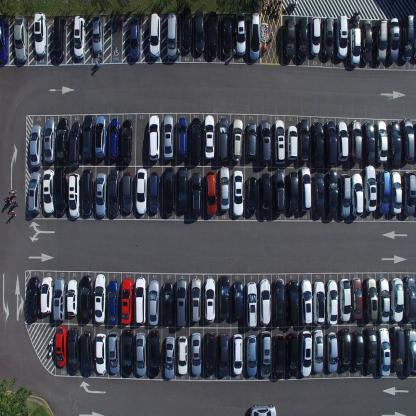car: (399, 13, 414, 62), (401, 170, 416, 217), (400, 118, 416, 162), (54, 166, 68, 215), (364, 326, 378, 375), (390, 326, 405, 371), (14, 14, 28, 62), (363, 165, 377, 212), (52, 14, 66, 61), (390, 276, 404, 323), (248, 12, 261, 62), (27, 171, 42, 214), (258, 119, 272, 165), (29, 123, 43, 169), (66, 328, 79, 377), (108, 168, 121, 217), (204, 171, 218, 216), (311, 122, 325, 167), (388, 121, 402, 166), (374, 18, 388, 63), (364, 276, 378, 321), (121, 330, 134, 378), (175, 278, 188, 326), (147, 112, 160, 160), (25, 274, 38, 322), (324, 120, 337, 168), (34, 10, 47, 58), (43, 117, 56, 165), (81, 168, 94, 216), (377, 328, 390, 376), (230, 118, 244, 162), (350, 172, 364, 216), (376, 170, 390, 214), (374, 119, 388, 163), (338, 328, 352, 372), (93, 273, 105, 324), (216, 115, 229, 162), (404, 327, 416, 377), (80, 332, 93, 378), (299, 166, 312, 212), (120, 118, 133, 164), (69, 121, 82, 167), (299, 330, 312, 376), (79, 275, 91, 324), (326, 169, 338, 218), (166, 12, 178, 61), (204, 330, 217, 375), (273, 119, 286, 164), (360, 19, 373, 64), (335, 14, 348, 59), (106, 278, 118, 326), (148, 330, 160, 378), (190, 116, 202, 164), (259, 330, 271, 378), (259, 172, 271, 220), (404, 276, 416, 324), (51, 278, 64, 322), (338, 174, 351, 218), (349, 119, 362, 163), (321, 16, 334, 60), (286, 332, 299, 376), (162, 113, 174, 160), (191, 171, 203, 218), (259, 278, 271, 325), (312, 171, 324, 218), (148, 11, 160, 58), (68, 172, 80, 219), (42, 167, 54, 214), (286, 280, 298, 327), (300, 278, 312, 325), (326, 278, 338, 325), (273, 333, 285, 380), (232, 170, 244, 216), (273, 168, 285, 214), (82, 114, 94, 160), (56, 118, 68, 164), (95, 172, 107, 218), (378, 277, 390, 323), (163, 166, 174, 216), (336, 120, 349, 162), (218, 166, 230, 211), (388, 16, 400, 61), (73, 14, 85, 59), (339, 277, 351, 322), (312, 328, 324, 373), (135, 276, 146, 325), (246, 280, 257, 329), (91, 13, 104, 54), (121, 277, 132, 325), (148, 278, 159, 326), (107, 332, 119, 376), (164, 336, 176, 380), (178, 166, 189, 214), (204, 278, 216, 322), (287, 171, 299, 215), (298, 118, 310, 162), (284, 17, 296, 61), (221, 14, 233, 58), (207, 10, 218, 58), (95, 114, 107, 158), (274, 278, 285, 326), (313, 281, 325, 325), (204, 113, 215, 160), (122, 171, 134, 214), (246, 334, 258, 377), (231, 332, 243, 375), (390, 171, 402, 214), (296, 18, 308, 61), (135, 332, 146, 378), (136, 168, 147, 214), (218, 332, 229, 378), (218, 274, 229, 320), (181, 7, 192, 53), (129, 15, 140, 61), (162, 282, 174, 324), (362, 122, 374, 164), (108, 117, 120, 159), (350, 277, 362, 319), (326, 331, 338, 373), (191, 277, 202, 322), (235, 11, 246, 56), (309, 16, 321, 57), (352, 330, 364, 371), (191, 331, 202, 375), (177, 116, 188, 160), (38, 275, 50, 315), (246, 176, 258, 216), (349, 27, 361, 67), (149, 171, 160, 214), (94, 334, 105, 376), (54, 326, 65, 368), (194, 7, 204, 53), (286, 124, 298, 160), (65, 279, 76, 318), (0, 18, 9, 65), (178, 334, 188, 376), (233, 280, 243, 321), (246, 121, 257, 156), (249, 403, 277, 415), (412, 20, 416, 62)
